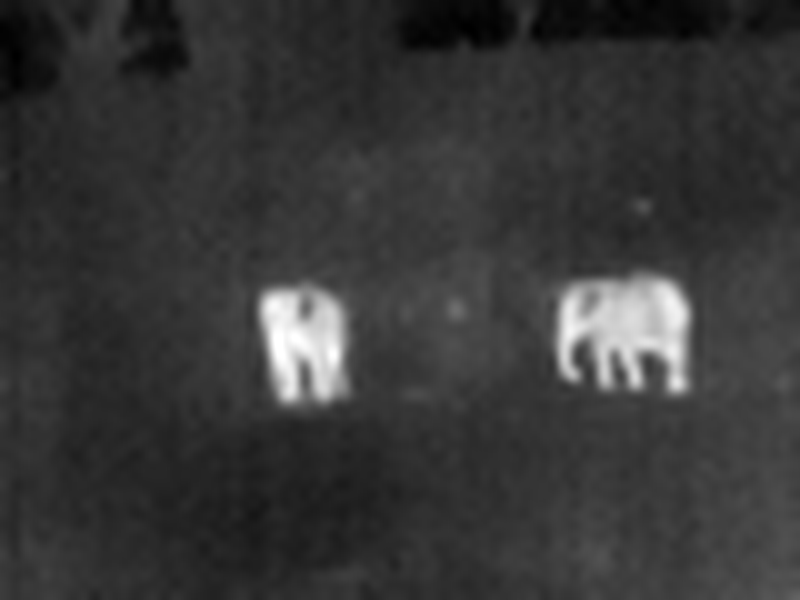elephant: (544, 269, 722, 407), (235, 273, 363, 402)
